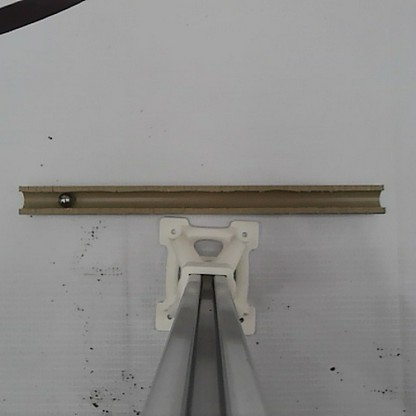ironball: (56, 190, 72, 208)
